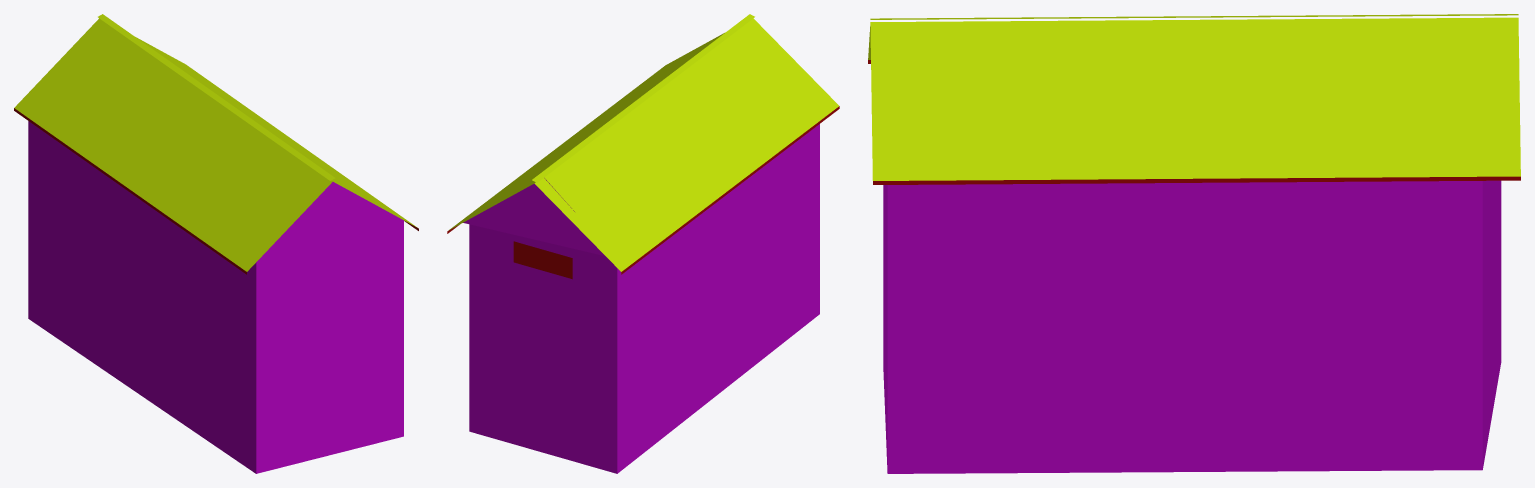
The model's file is bgj_238.glb.
The picture shows the model from 3 angles, left to right: view 1: azimuth 30°, elevation 25°; view 2: azimuth 150°, elevation 25°; view 3: azimuth 270°, elevation 25°; orthographic projection. The views are drawn at different scales.
Parts seen in each view (by area): view 1: bgj_238; view 2: bgj_238; view 3: bgj_238.
Part boxes in pixels (left/top/right/bottom): bgj_238: left=14, top=14, right=418, bottom=473; bgj_238: left=447, top=14, right=839, bottom=473; bgj_238: left=868, top=14, right=1520, bottom=473.
Size of the model in its own units: 7.96 by 11.87 by 17.47.
